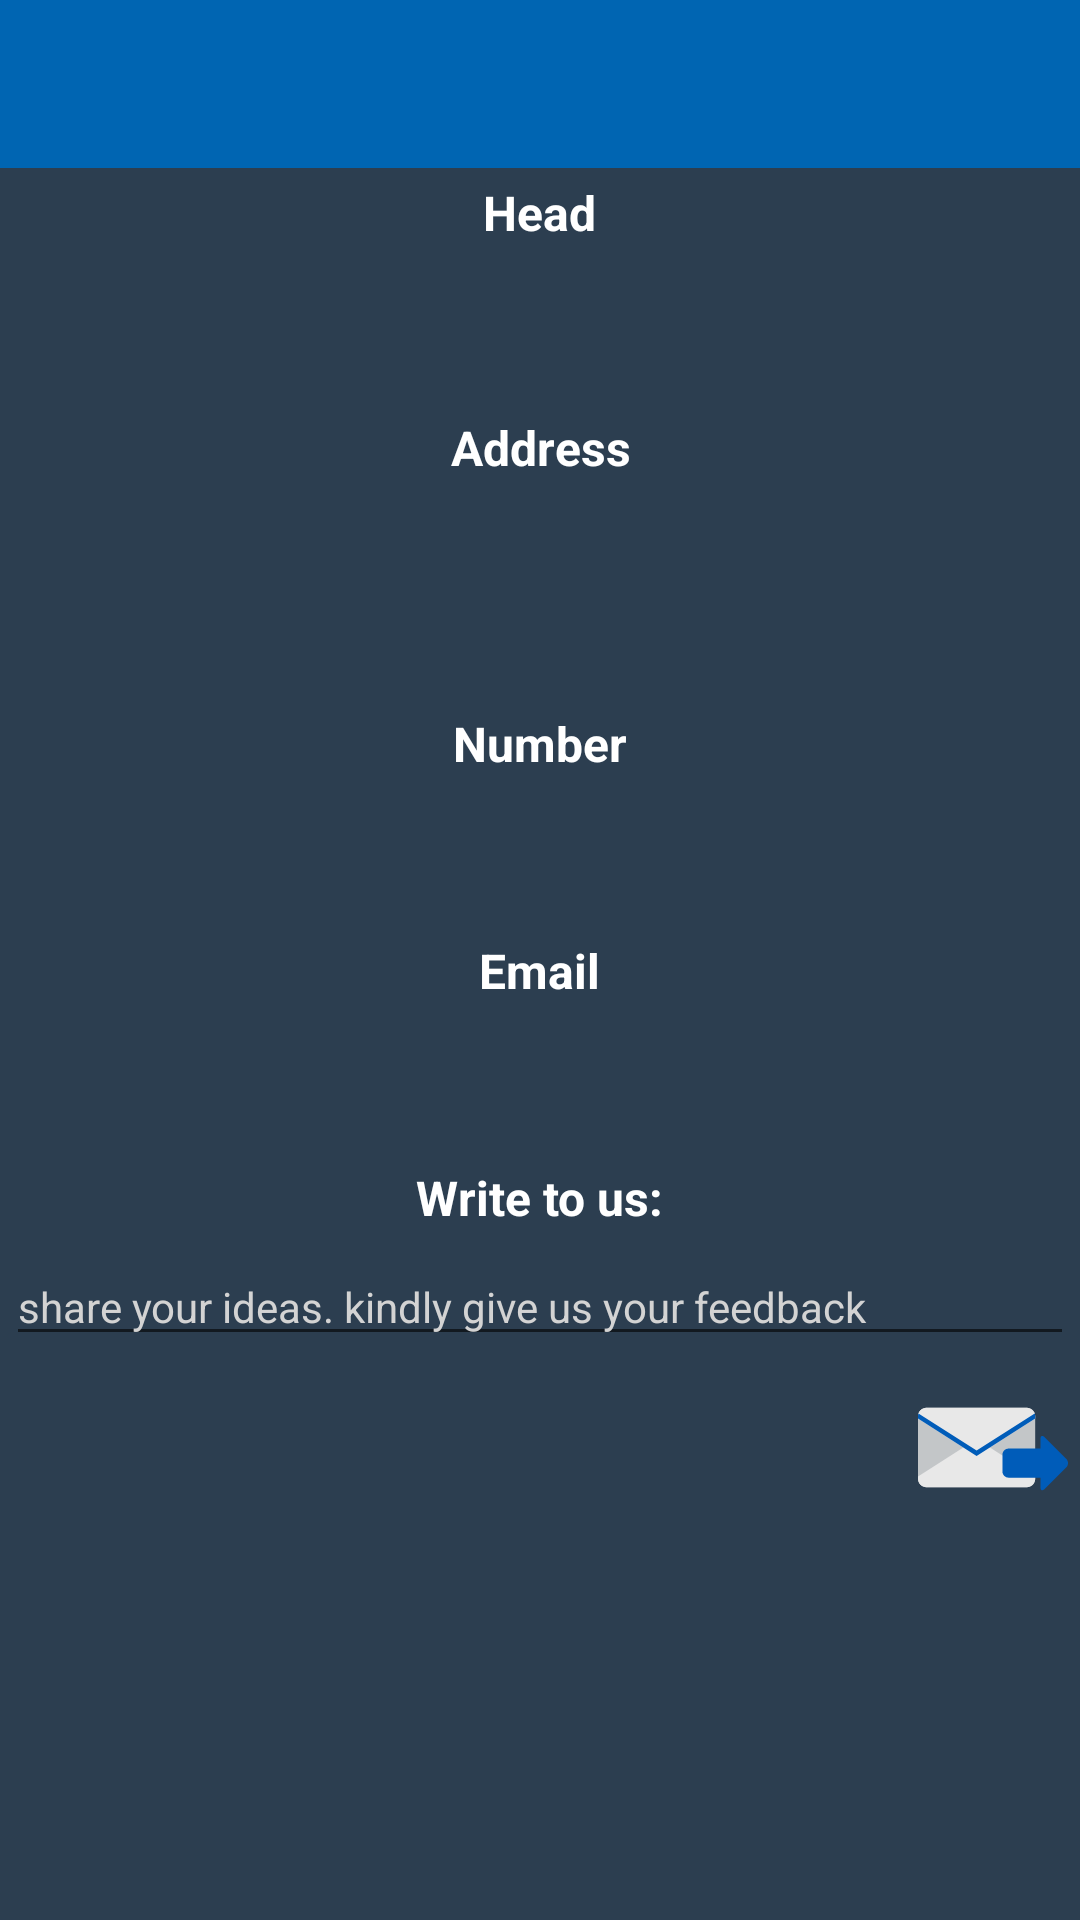

Where to tap for icons on this 1080px×1920px app screen, as [x,y]:
send feedback: [993,1448]
